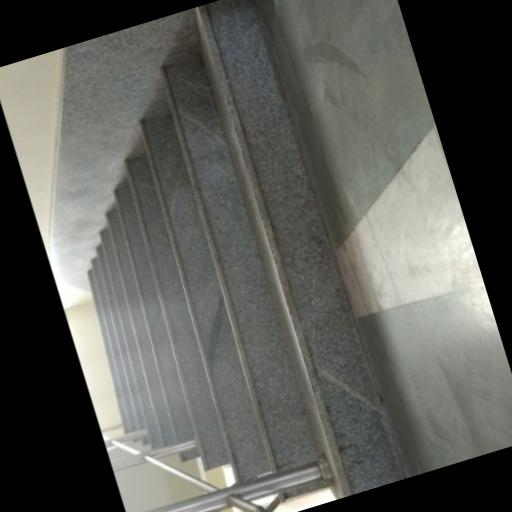stairs: (90, 0, 403, 498)
